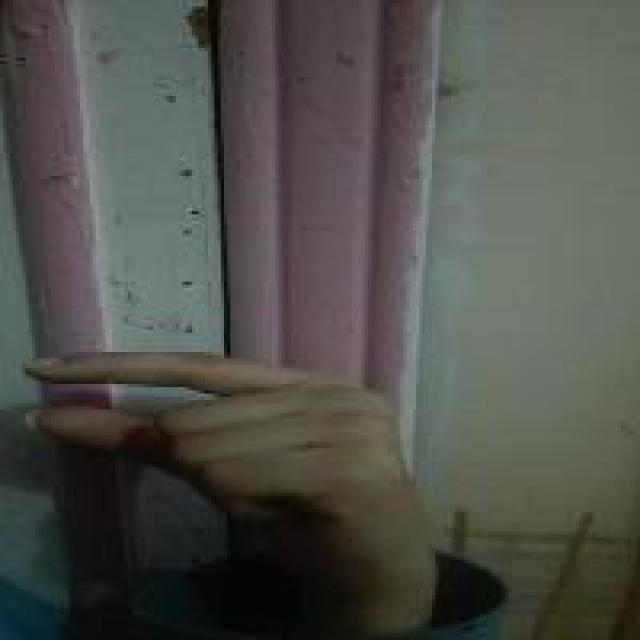G: (21, 338, 433, 612)
